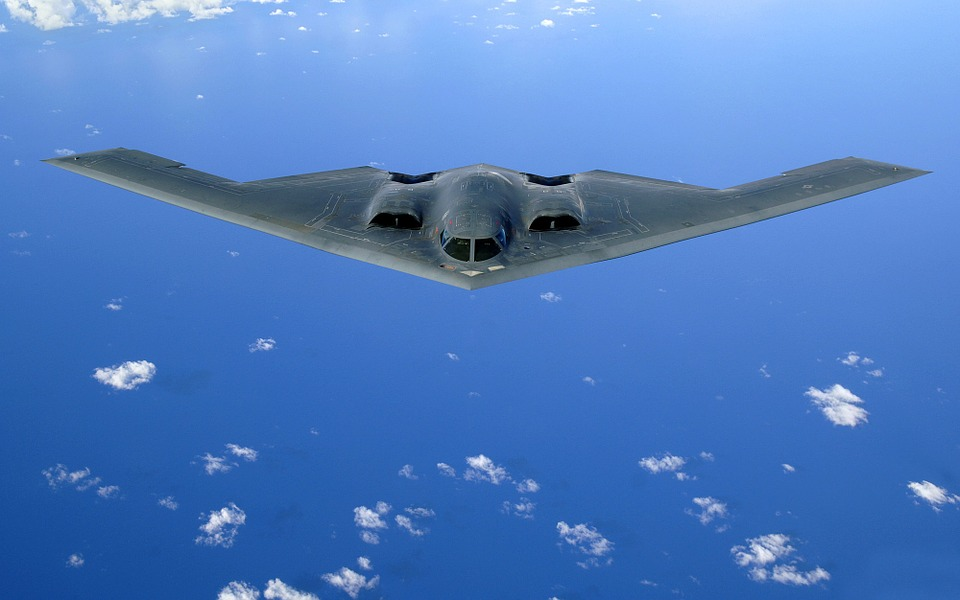Aeronef_militaire: (33, 135, 944, 294)
